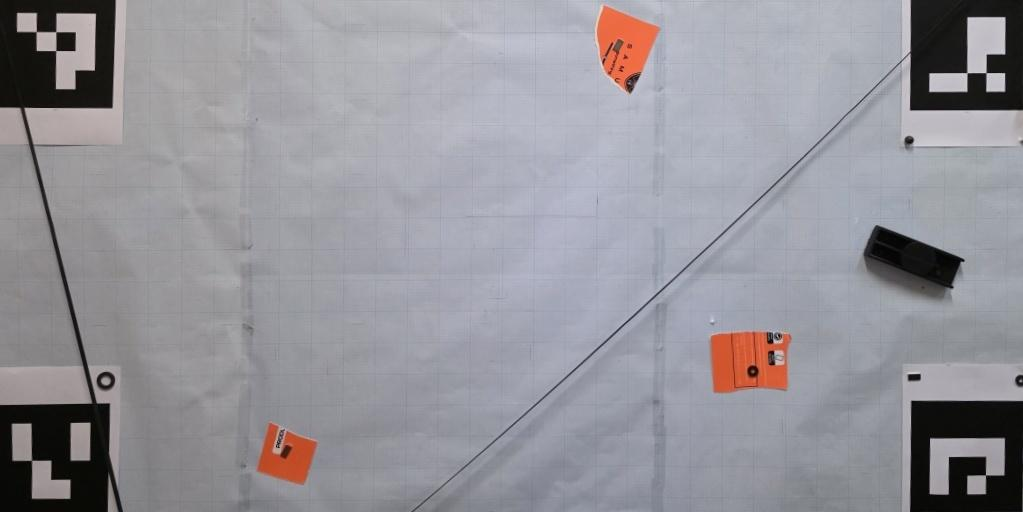obstacle: (862, 224, 965, 289), (595, 6, 661, 95), (711, 332, 792, 393), (255, 421, 317, 486)
